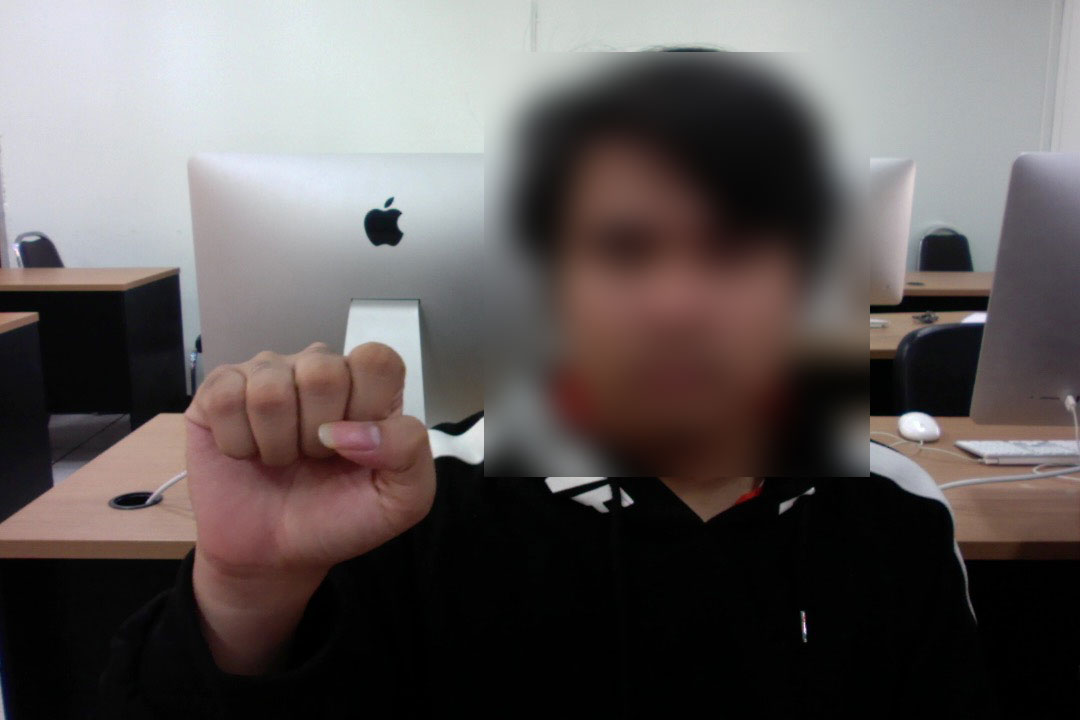sor: (168, 334, 445, 571)
